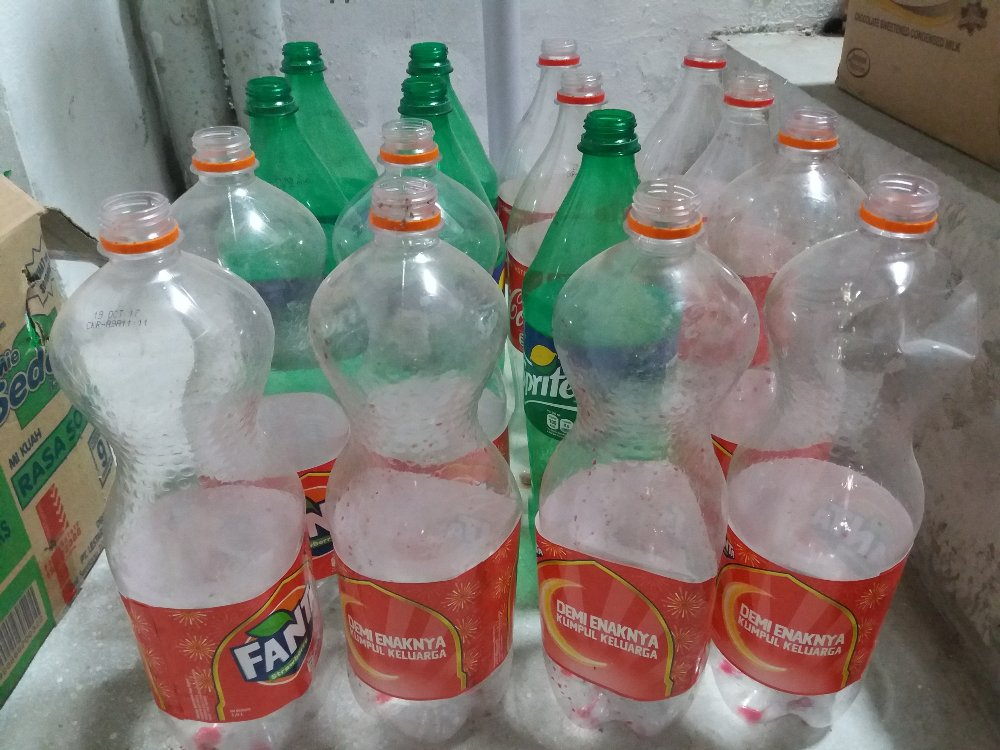botol: (540, 181, 766, 747)
